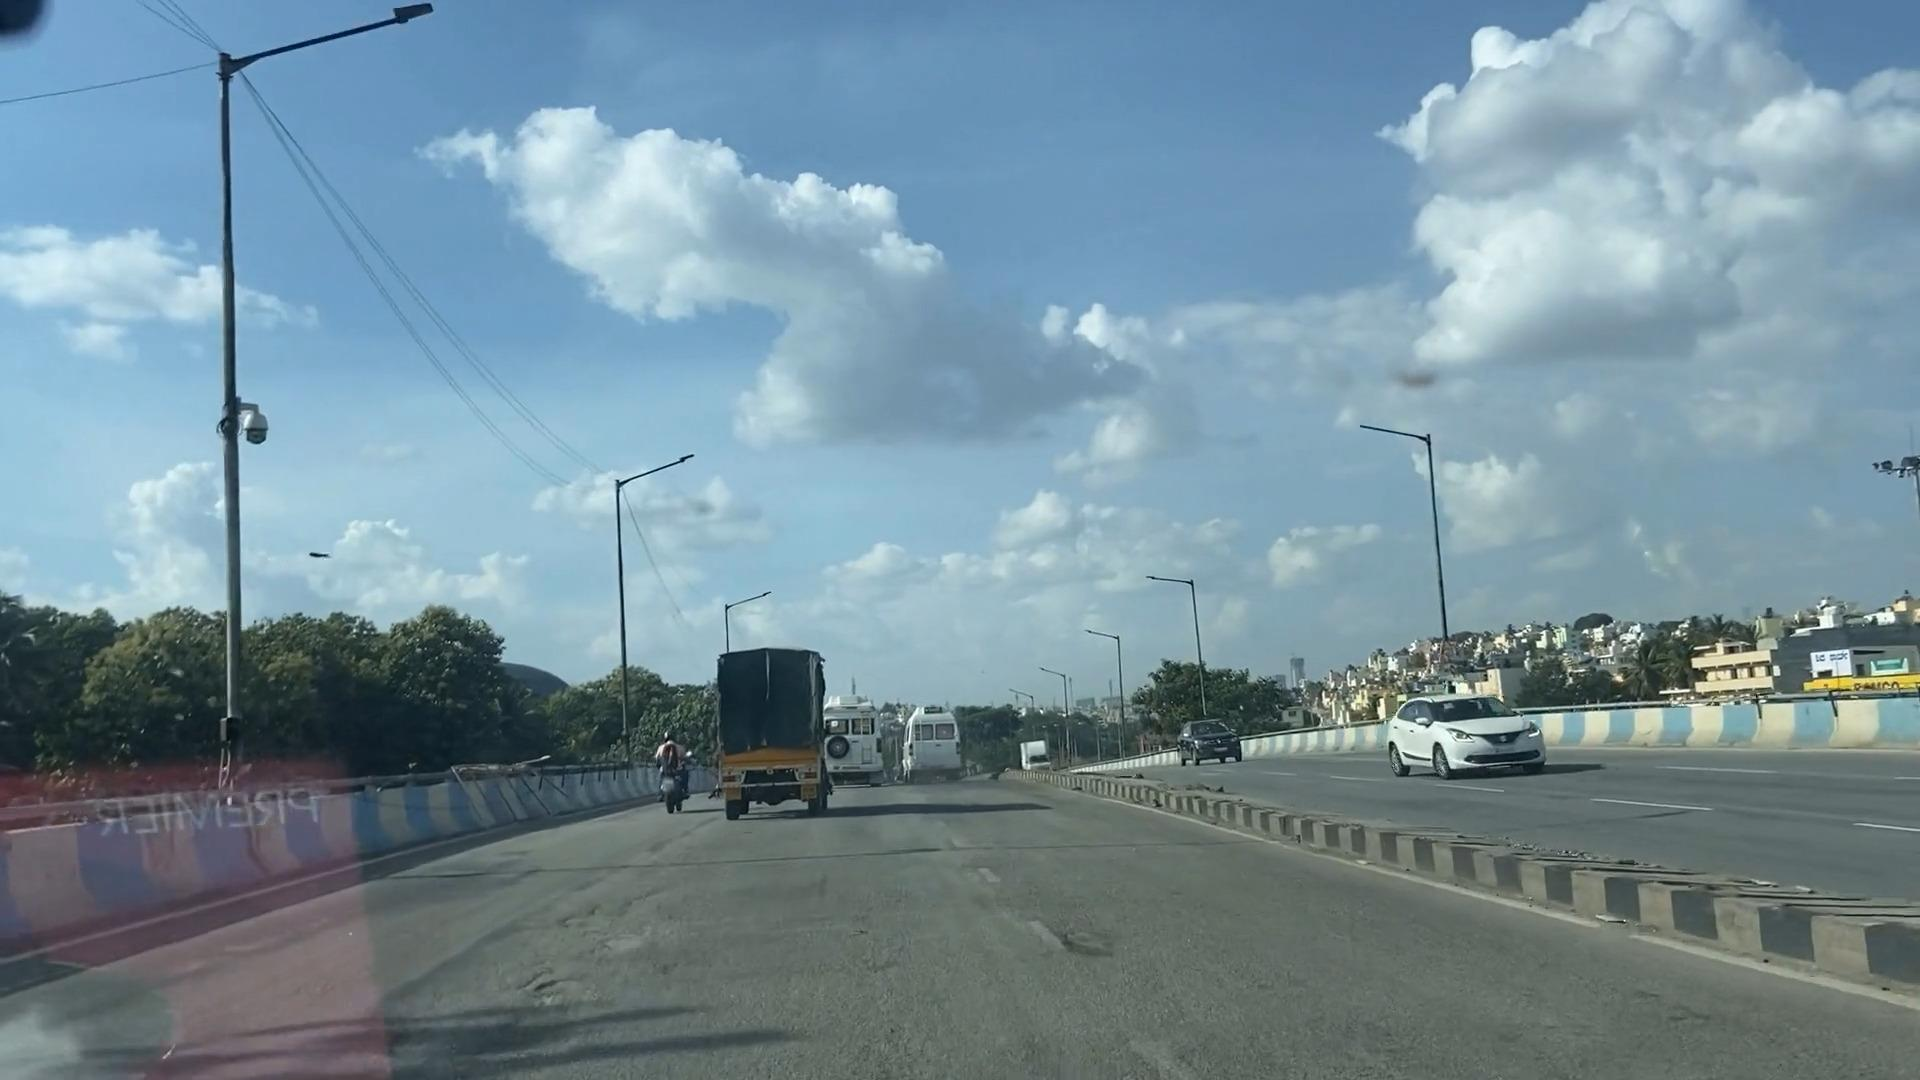HMV: (682, 653, 841, 811)
LMV: (662, 723, 694, 824)
RoadDamages: (824, 918, 1174, 1080), (451, 909, 712, 1047)
